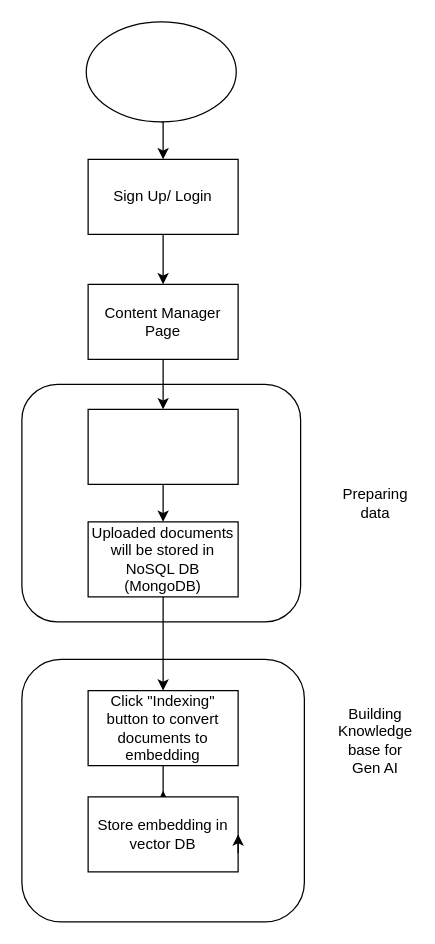
Image size: 435x944. Some labels were removed from this diagram. Here are the shapes that lost their labels. From the top down, the centre of each, then its label:
At (x=160, y=71): "Start".
At (x=162, y=446): "Upload Documents (supported multiple data sources)".
